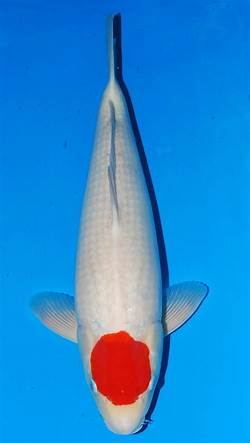sun: (27, 12, 208, 433)
